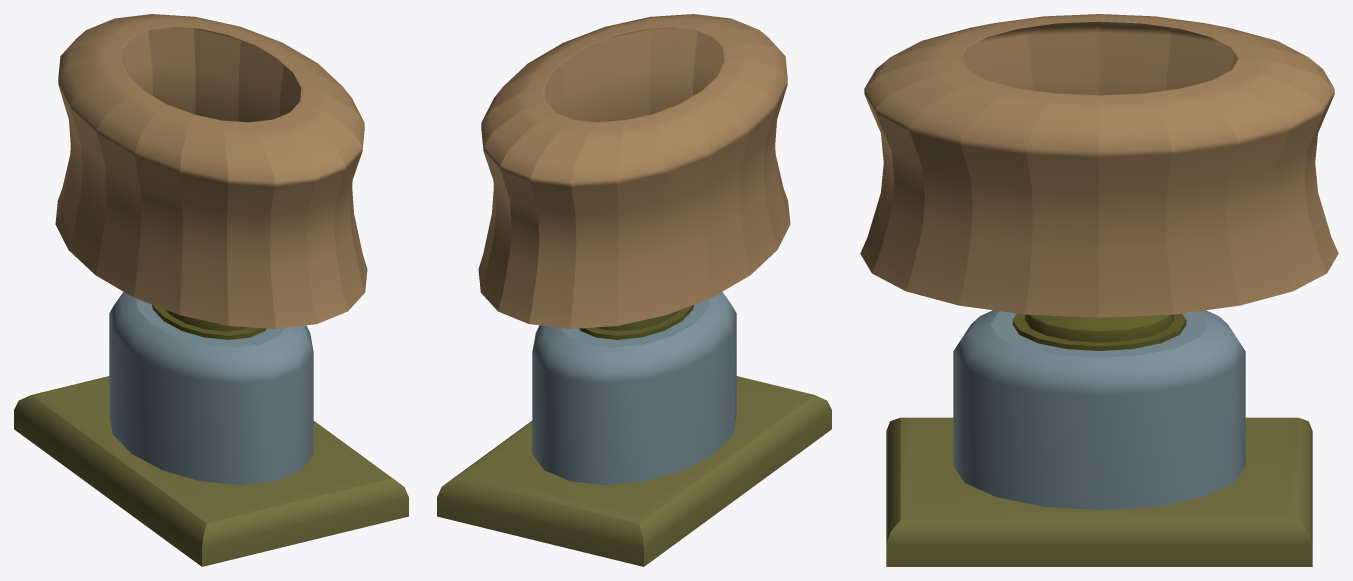
File: Chall2.Lamp.MapExport.fbx
3 renders of one model, left to right at view 1: azimuth 30°, elevation 25°; view 2: azimuth 150°, elevation 25°; view 3: azimuth 270°, elevation 25°, orthographic. The views are drawn at different scales.
Parts seen in each view (by area): view 1: pSphere2; view 2: pSphere2; view 3: pSphere2.
Part boxes in pixels (bbox=[...]): pSphere2: bbox=[14, 14, 408, 566]; pSphere2: bbox=[437, 14, 831, 566]; pSphere2: bbox=[860, 14, 1338, 566].
Bounding box in the file's own units: 3.52 × 5.77 × 5.54.
